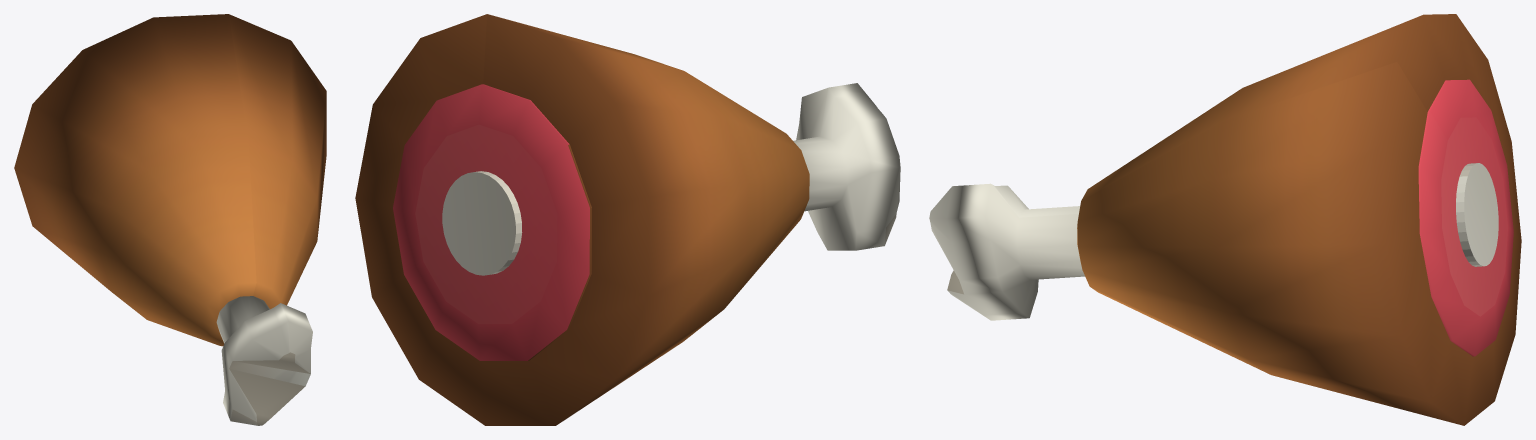
File: LowPolyMeat.fbx
The picture shows the model from 3 angles, left to right: view 1: azimuth 30°, elevation 25°; view 2: azimuth 150°, elevation 25°; view 3: azimuth 270°, elevation 25°; orthographic projection. The views are drawn at different scales.
Parts seen in each view (by area): view 1: Cylinder.001; view 2: Cylinder.001; view 3: Cylinder.001.
Part boxes in pixels (x1,y1,x2,y2): Cylinder.001: [14, 14, 326, 425]; Cylinder.001: [355, 14, 900, 425]; Cylinder.001: [929, 14, 1521, 425].
Bounding box in the file's own units: 1541 × 1569 × 2283.
